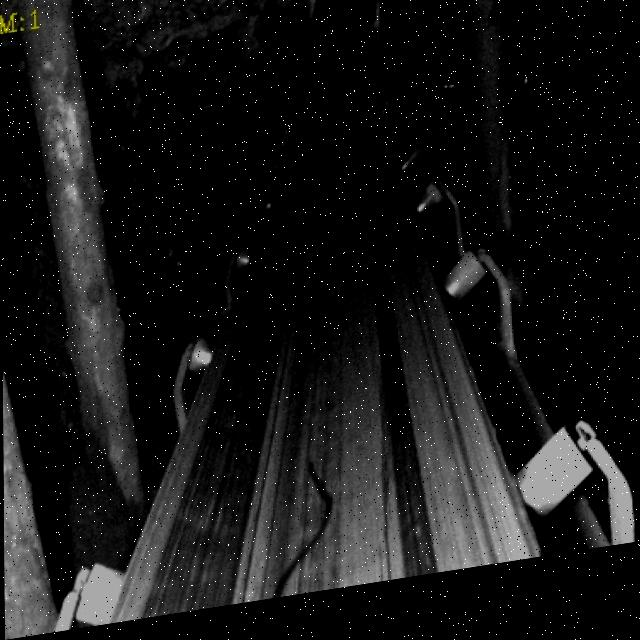bolt: (249, 464, 334, 610)
